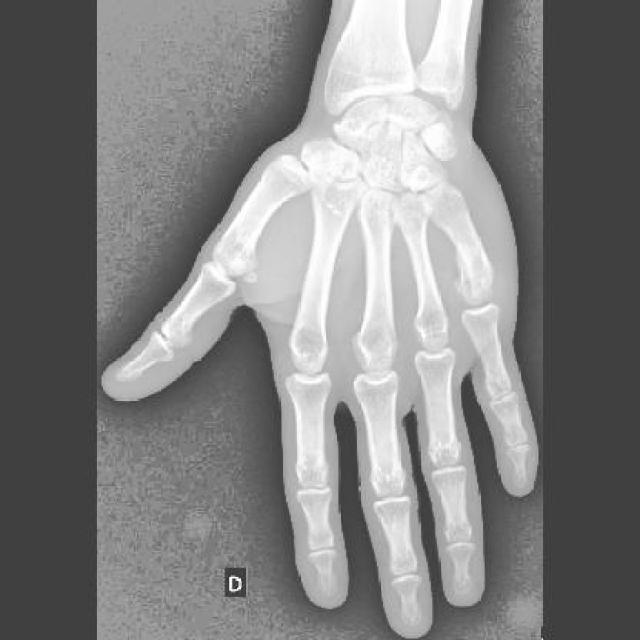Fracture: (454, 249, 497, 309)
